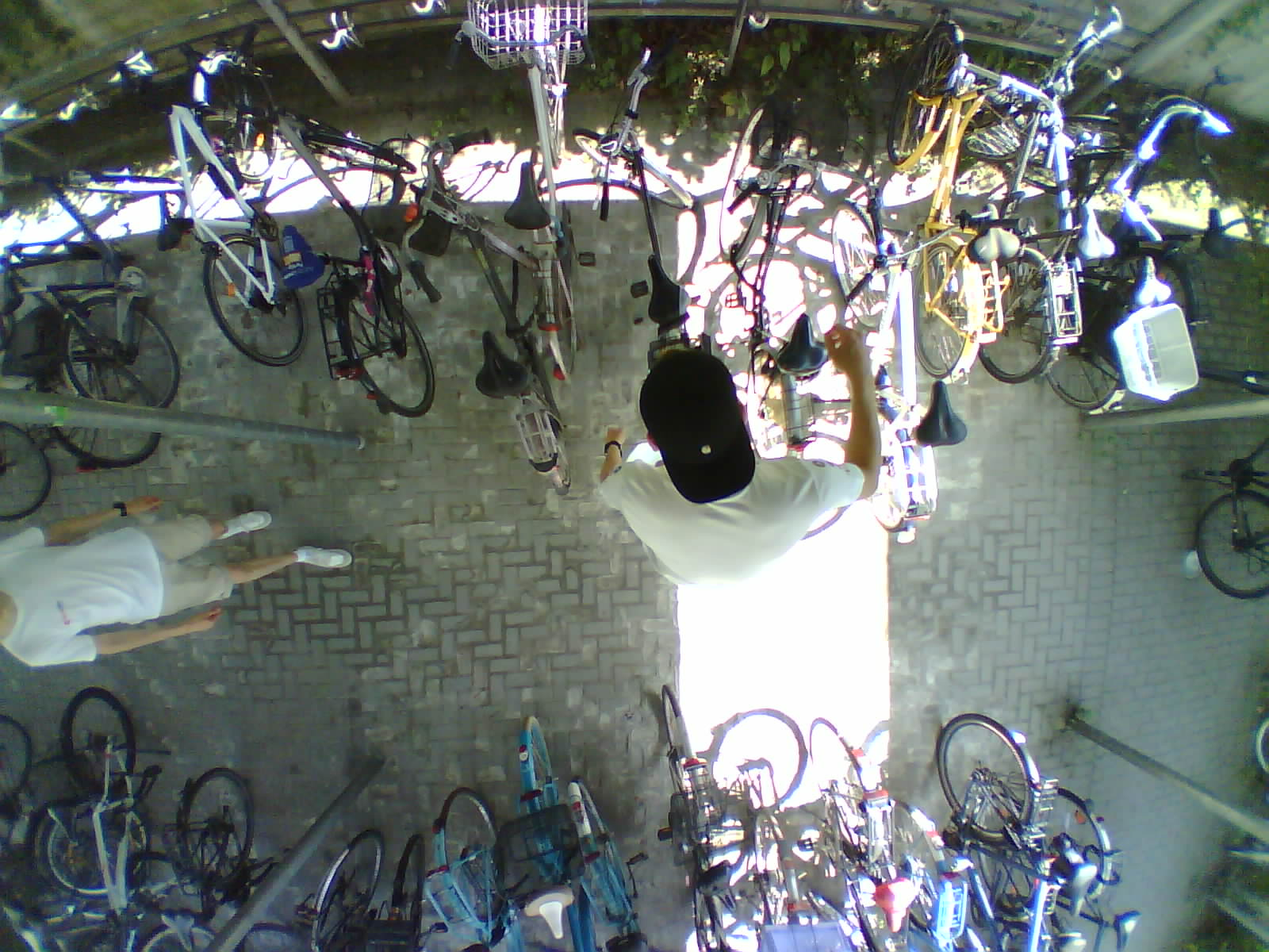bicylce: (403, 190, 570, 495), (286, 117, 441, 425), (163, 44, 304, 360), (489, 0, 596, 375), (826, 200, 941, 544), (931, 712, 1085, 952), (883, 45, 988, 381), (966, 78, 1074, 383), (725, 108, 815, 469), (571, 123, 702, 371), (1047, 137, 1164, 414), (44, 169, 174, 411), (807, 717, 919, 952), (654, 683, 744, 952), (57, 687, 144, 952), (508, 714, 589, 952), (1193, 361, 1269, 597)
saddle: (470, 326, 534, 404), (636, 249, 697, 323), (914, 374, 975, 448), (501, 157, 557, 234), (960, 200, 1022, 269), (774, 302, 828, 377), (276, 221, 329, 297), (1068, 191, 1108, 265), (870, 878, 921, 932), (1131, 254, 1176, 308), (527, 887, 571, 935), (1063, 854, 1098, 914), (696, 858, 736, 908), (1108, 904, 1147, 952), (51, 802, 79, 845), (0, 275, 26, 314)
